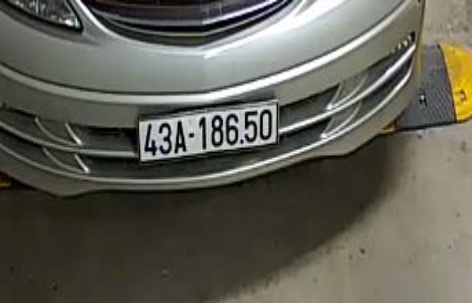plate: (137, 99, 281, 166)
